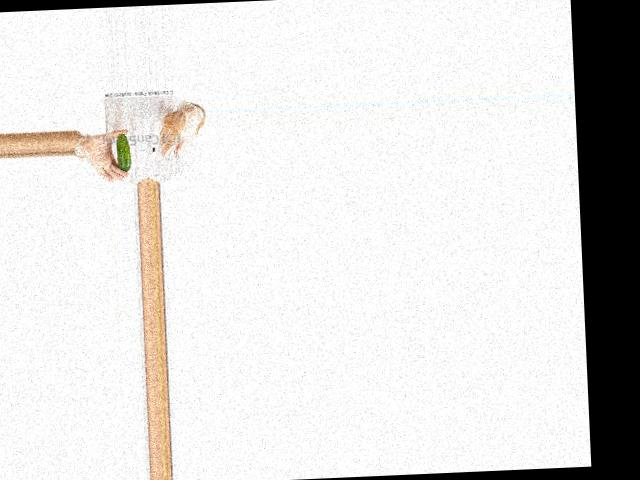cucumber: (115, 133, 130, 172)
